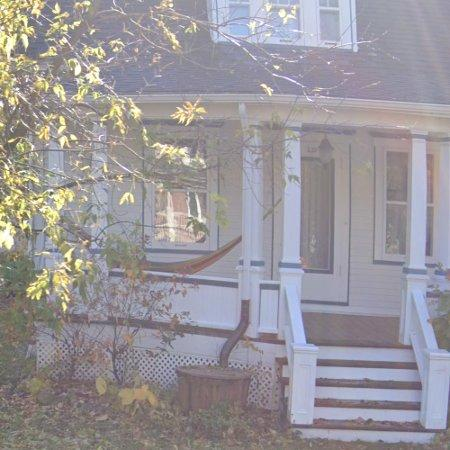stairs: (302, 348, 436, 444)
